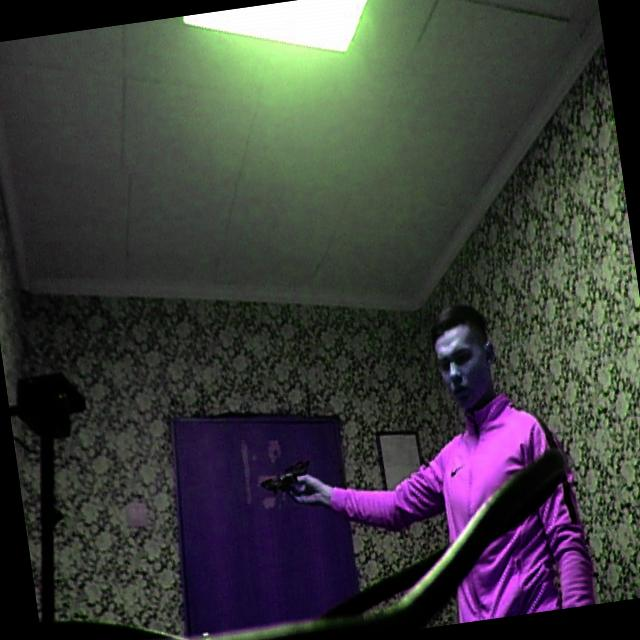drone: (254, 439, 329, 505)
